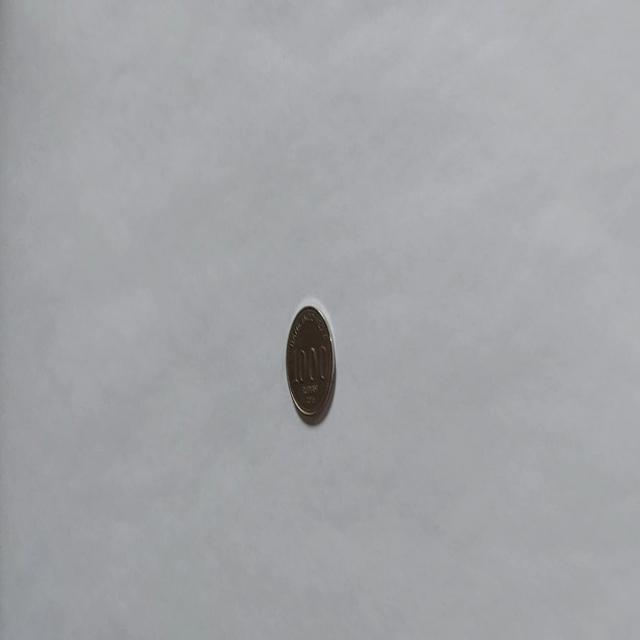seribu rupiah koin: (284, 300, 336, 426)
